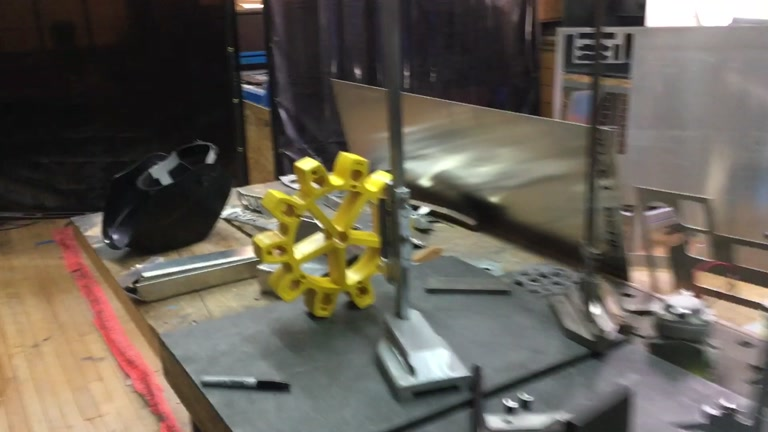gear: (251, 151, 405, 318)
